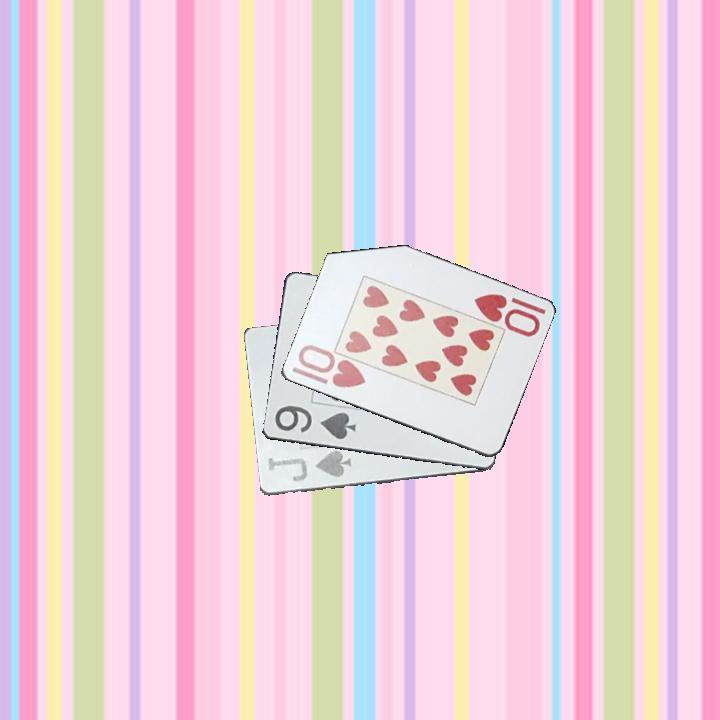9s: (271, 402, 359, 443)
Js: (262, 447, 353, 485)
Th: (470, 290, 548, 339), (294, 342, 368, 391)
